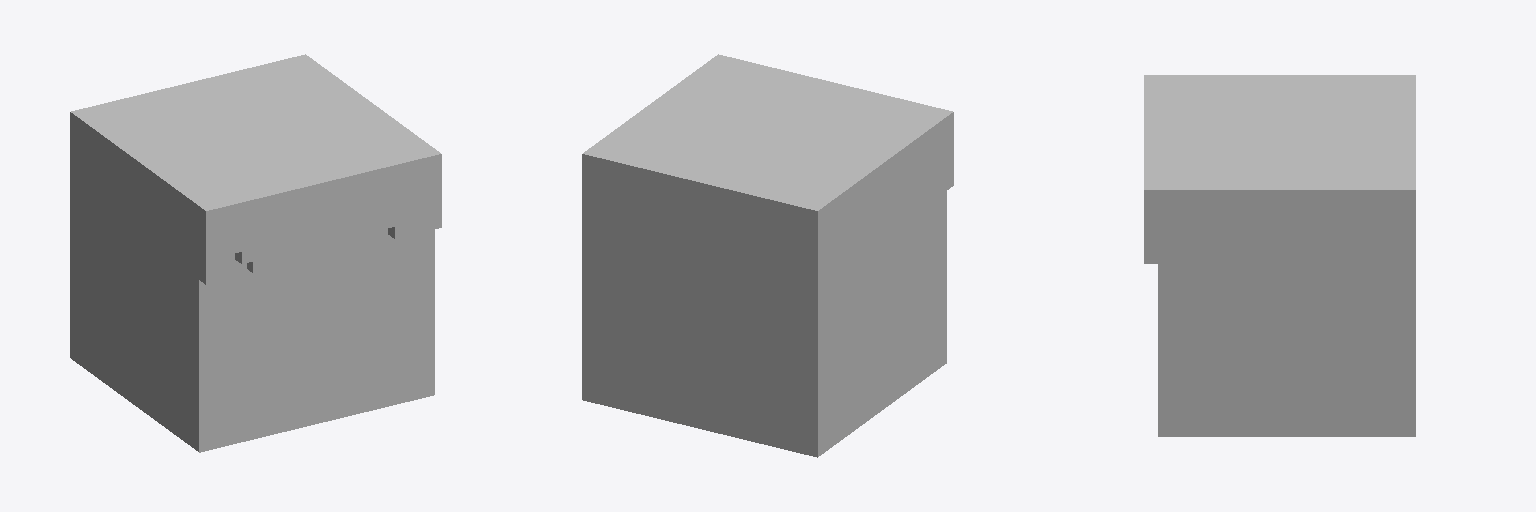
The model's file is GrassBlock.obj.
3 views of the same model, side by side, from view 1: azimuth 30°, elevation 25°; view 2: azimuth 150°, elevation 25°; view 3: azimuth 270°, elevation 25° (orthographic).
Bounding box in the file's own units: 20 × 20 × 20.